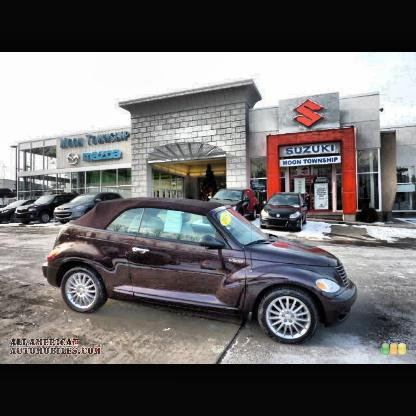Chrysler PT Cruiser Convertible 2008: (43, 197, 359, 345)
